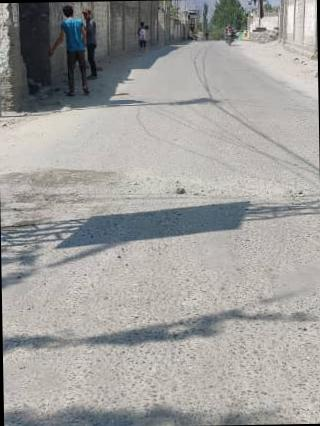sharp_turn: (150, 12, 320, 426)
